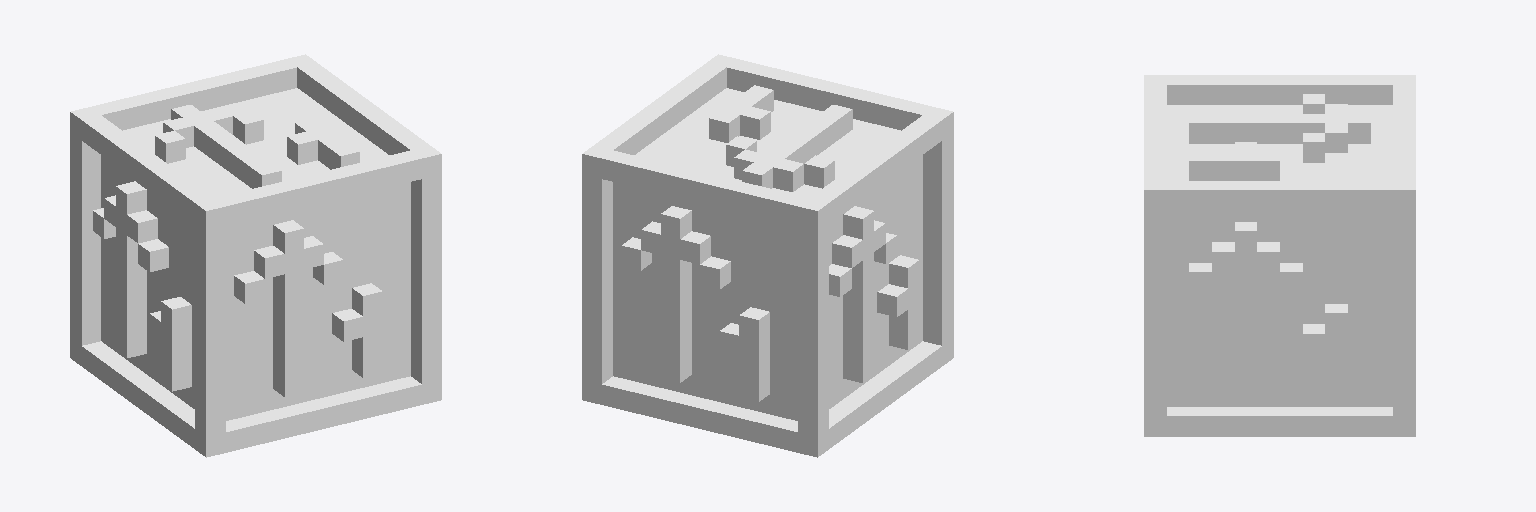
Rendered from height_point_1.obj.
The picture shows the model from 3 angles: view 1: azimuth 30°, elevation 25°; view 2: azimuth 150°, elevation 25°; view 3: azimuth 270°, elevation 25°; orthographic projection.
Visible parts, largest first — view 1: object 1; view 2: object 1; view 3: object 1.
Boxes of the visible parts, box(x1,y1,x2,y2) form: object 1: box(70, 54, 441, 457); object 1: box(582, 54, 953, 457); object 1: box(1144, 75, 1415, 436).
Size of the model in its own units: 1.2 by 1.2 by 1.2.